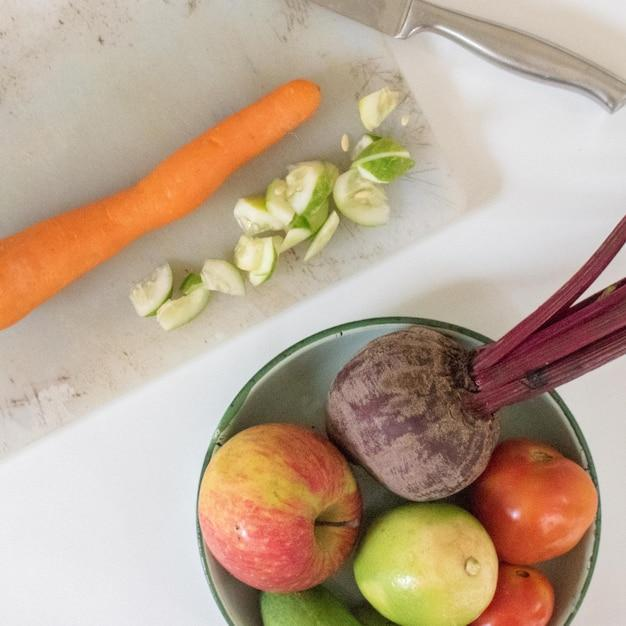apple: (204, 405, 370, 590)
beetroot: (322, 302, 544, 488)
carrot: (0, 75, 322, 331)
tomato: (476, 436, 599, 623)
